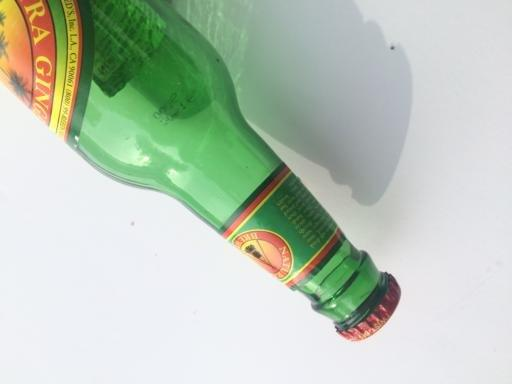botolkaca: (1, 1, 402, 342)
